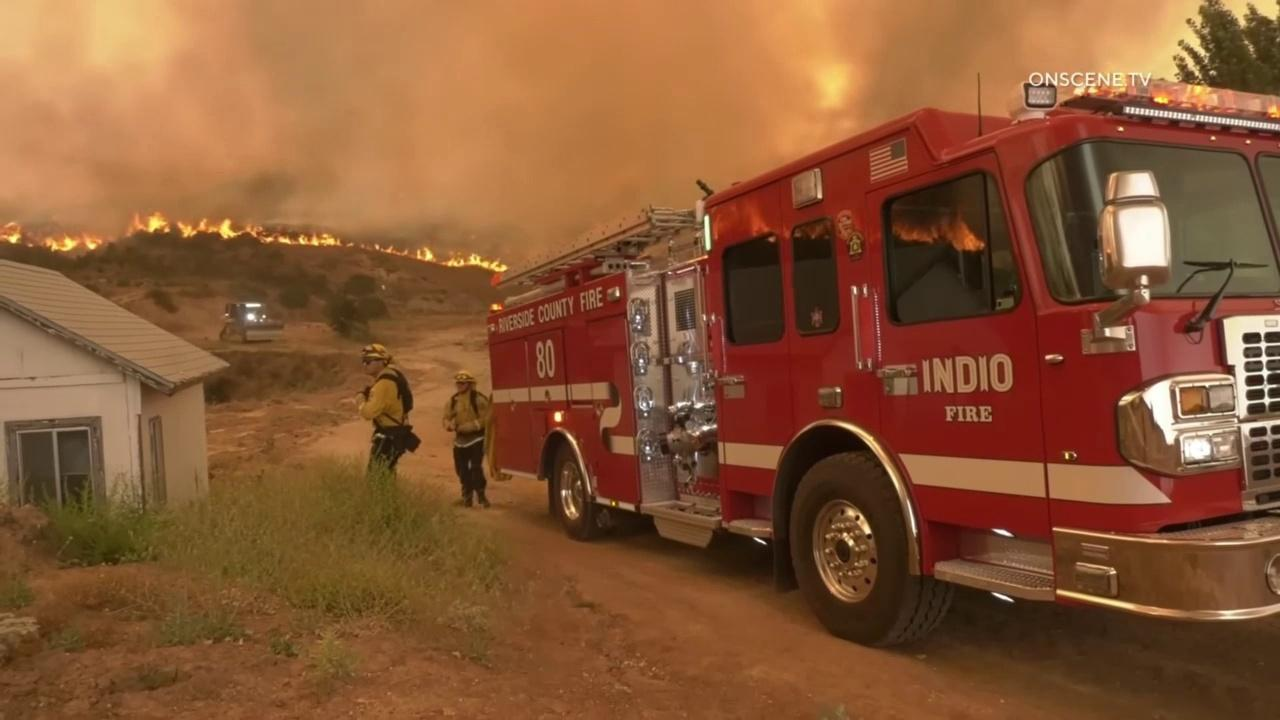fire: (176, 217, 344, 247), (39, 230, 103, 253), (124, 208, 171, 237), (440, 251, 508, 271), (0, 221, 23, 244), (375, 244, 409, 258), (416, 246, 437, 264), (346, 241, 355, 247), (359, 243, 365, 249), (27, 243, 33, 248)
smoke: (0, 0, 1184, 271)
